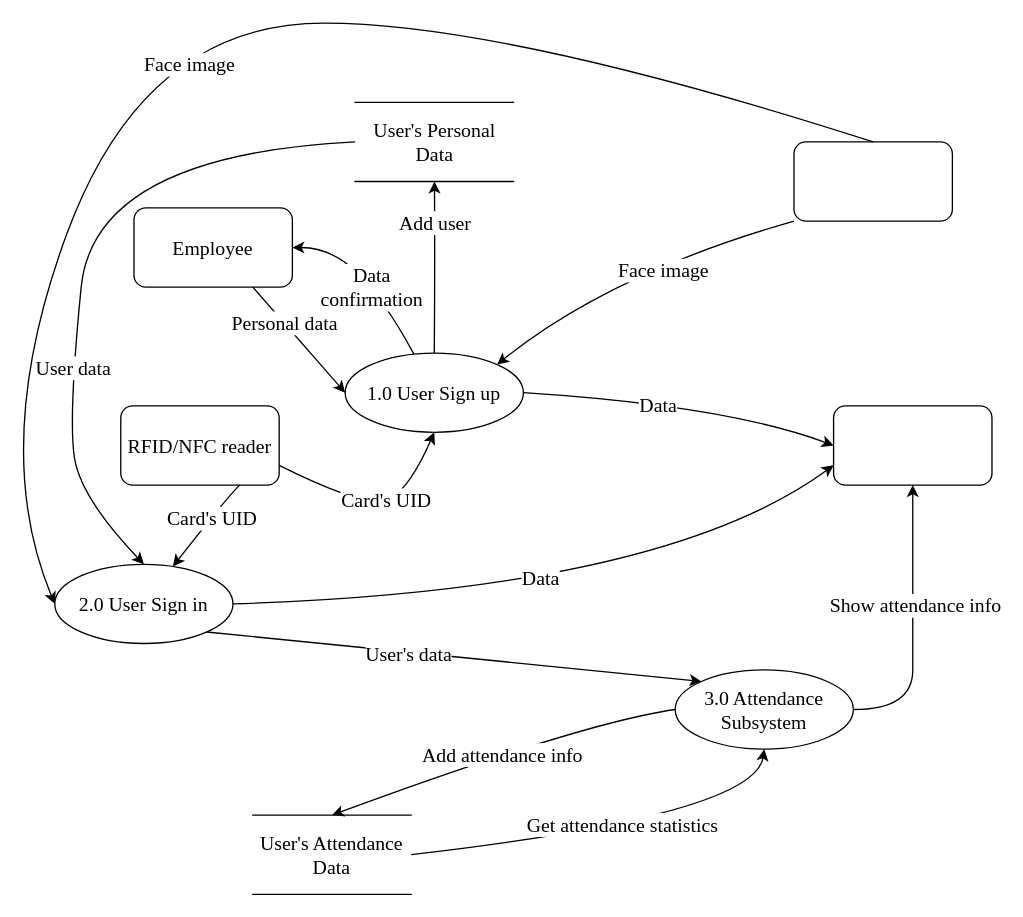
Some shapes in this 1023 by 917 pixel diagram are drawn without their labels. Each missing label, with the centre of its shape:
Camera: the point at 872,181
Screen: the point at 912,445
